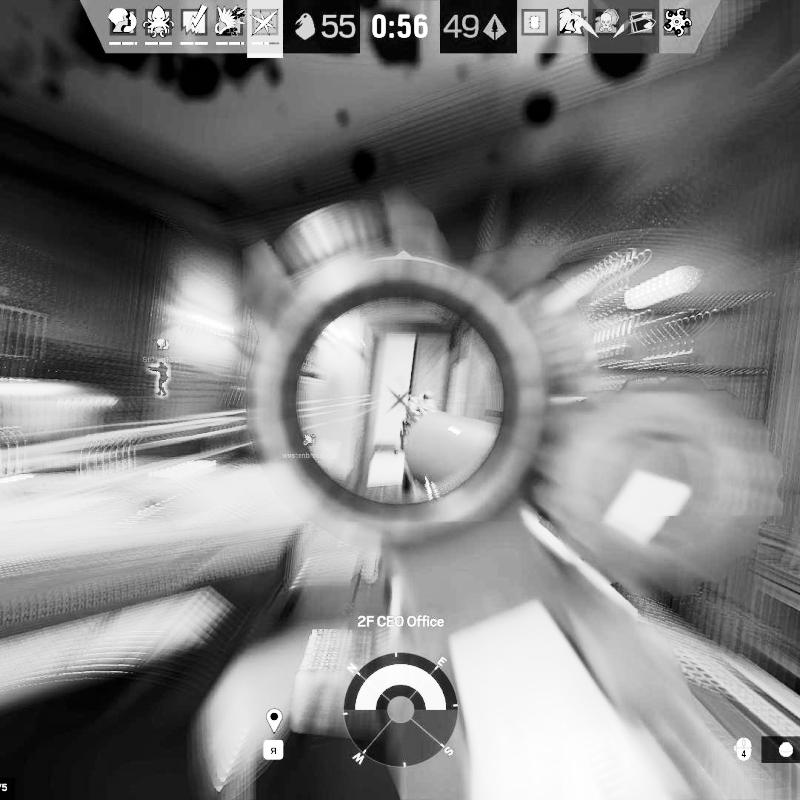Character: (399, 386, 435, 497)
Friend_label: (282, 430, 338, 461), (143, 338, 182, 363)
Head: (422, 390, 434, 406)
